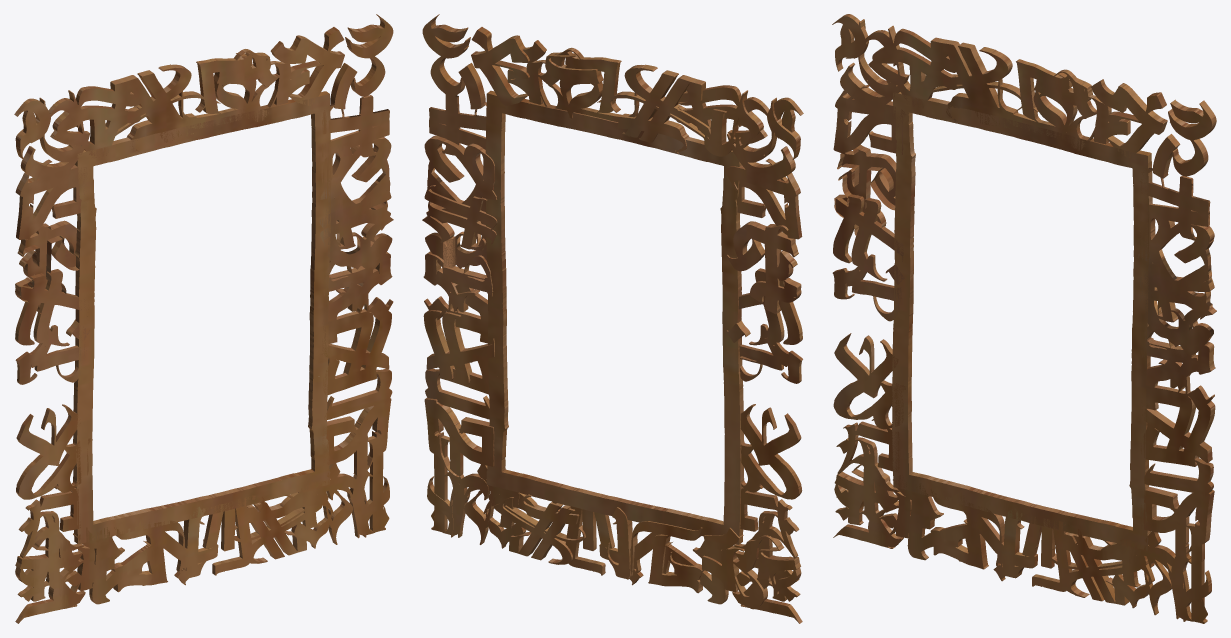
The picture shows the model from 3 angles, left to right: view 1: azimuth 30°, elevation 25°; view 2: azimuth 150°, elevation 25°; view 3: azimuth 330°, elevation 25°; orthographic projection.
Visible parts, largest first — view 1: group_0, instance_0.011, instance_0.007, instance_0.010, instance_0.006, instance_2.011, instance_0.013, instance_0.017, instance_2.014, instance_0.001, instance_2.010, instance_2 (+17 smaller); view 2: group_0, instance_0.007, instance_0.011, instance_2.011, instance_2.014, instance_0.010, instance_0.006, instance_0.017, instance_2.036, instance_0.013, instance_2.001, instance_2 (+17 smaller); view 3: group_0, instance_0.011, instance_0.007, instance_0.010, instance_2.011, instance_0.006, instance_0.017, instance_0.013, instance_0.001, instance_2.014, instance_2.010, instance_2 (+17 smaller).
Boxes of the visible parts, bbox=[...] form: group_0: bbox=[73, 91, 331, 544]; instance_0.011: bbox=[15, 404, 90, 623]; instance_0.007: bbox=[14, 64, 206, 158]; instance_0.010: bbox=[89, 495, 264, 604]; instance_0.006: bbox=[178, 41, 309, 128]; instance_2.011: bbox=[232, 473, 389, 563]; instance_0.013: bbox=[280, 427, 385, 548]; instance_0.017: bbox=[15, 269, 88, 384]; instance_2.014: bbox=[15, 90, 111, 196]; instance_0.001: bbox=[323, 157, 392, 270]; instance_2.010: bbox=[330, 14, 393, 109]; instance_2: bbox=[322, 310, 391, 384]; group_0: bbox=[485, 90, 744, 544]; instance_0.007: bbox=[609, 64, 803, 153]; instance_0.011: bbox=[732, 404, 802, 623]; instance_2.011: bbox=[427, 473, 585, 564]; instance_2.014: bbox=[704, 90, 800, 197]; instance_0.010: bbox=[553, 502, 728, 604]; instance_0.006: bbox=[507, 40, 639, 122]; instance_0.017: bbox=[738, 268, 802, 383]; instance_2.036: bbox=[726, 224, 796, 314]; instance_0.013: bbox=[431, 427, 537, 548]; instance_2.001: bbox=[424, 398, 494, 477]; instance_2: bbox=[423, 310, 494, 385]; group_0: bbox=[892, 92, 1152, 550]; instance_0.011: bbox=[833, 333, 905, 548]; instance_0.007: bbox=[832, 14, 1023, 127]; instance_0.010: bbox=[906, 483, 1083, 591]; instance_2.011: bbox=[1049, 532, 1211, 621]; instance_0.006: bbox=[997, 59, 1130, 150]; instance_0.017: bbox=[832, 194, 903, 321]; instance_0.013: bbox=[1100, 506, 1207, 623]; instance_0.001: bbox=[1141, 235, 1213, 354]; instance_2.014: bbox=[835, 19, 932, 128]; instance_2.010: bbox=[1152, 99, 1216, 178]; instance_2: bbox=[1141, 394, 1215, 465].
Bounding box in the file's own units: 0.9177 × 1.22 × 0.019.
Materials: 3 (2 with a texture image).
